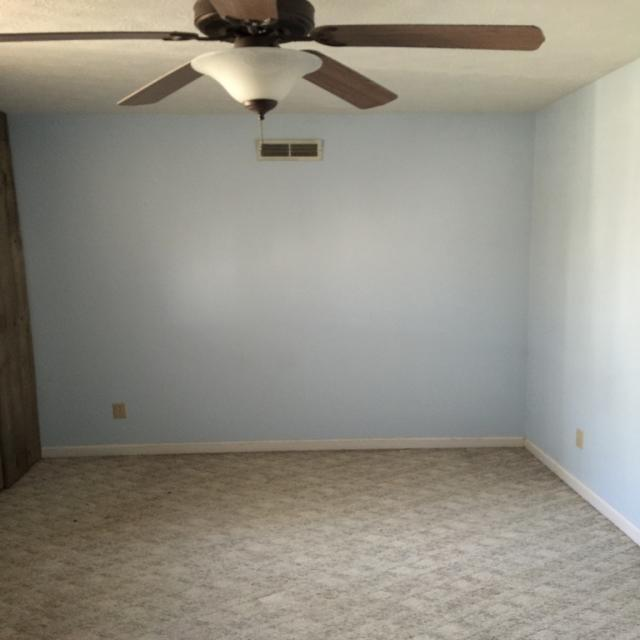fan_off: (0, 0, 549, 112)
